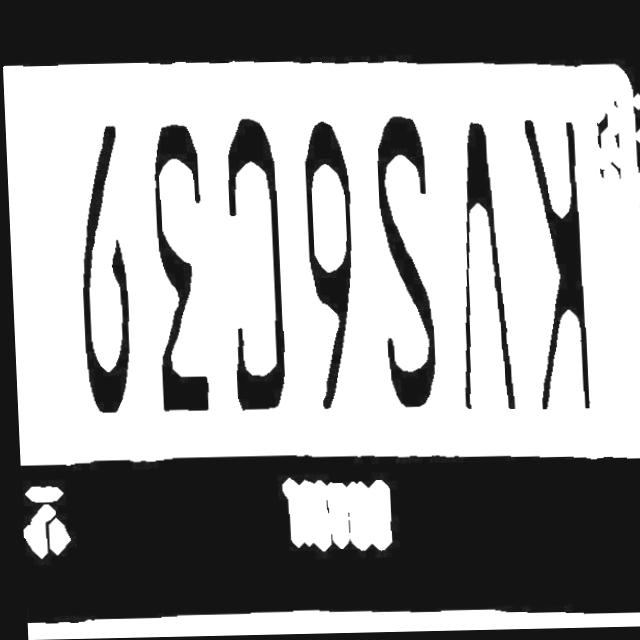3: (140, 115, 215, 420)
6: (296, 116, 360, 417)
9: (58, 103, 137, 426)
c: (215, 110, 293, 418)
k: (518, 113, 601, 423)
s: (365, 97, 444, 415)
v: (441, 111, 519, 421)
